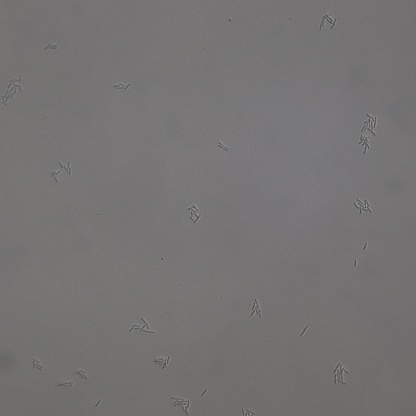R(colony): (1, 76, 22, 110), (128, 317, 156, 333), (51, 161, 71, 183), (360, 112, 378, 135), (332, 363, 349, 387), (318, 11, 338, 30), (171, 395, 189, 416), (353, 197, 372, 215), (357, 135, 373, 153), (186, 204, 201, 223), (249, 299, 263, 318), (153, 356, 171, 370), (113, 81, 132, 91), (75, 369, 89, 381), (32, 359, 43, 372)
